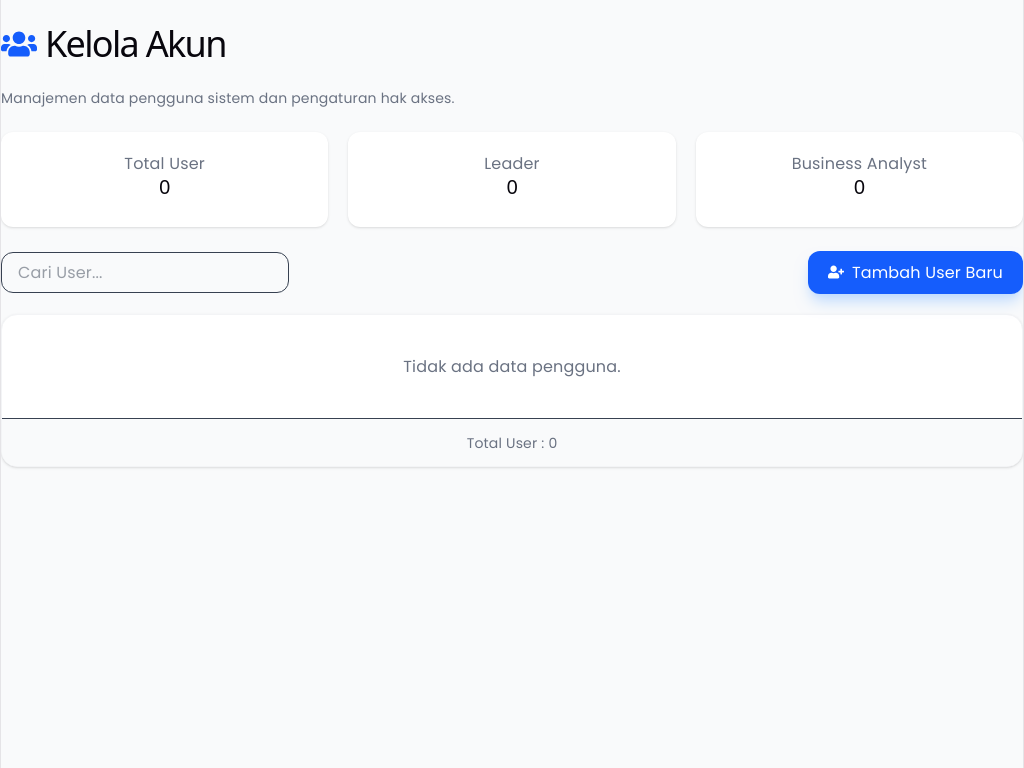
Test: White Box Testing - Kelola Akun › WB-KA06 - Membuka form tambah pengguna
Click the button "Tambah User Baru" at [915, 272], box [808,251,1023,294]
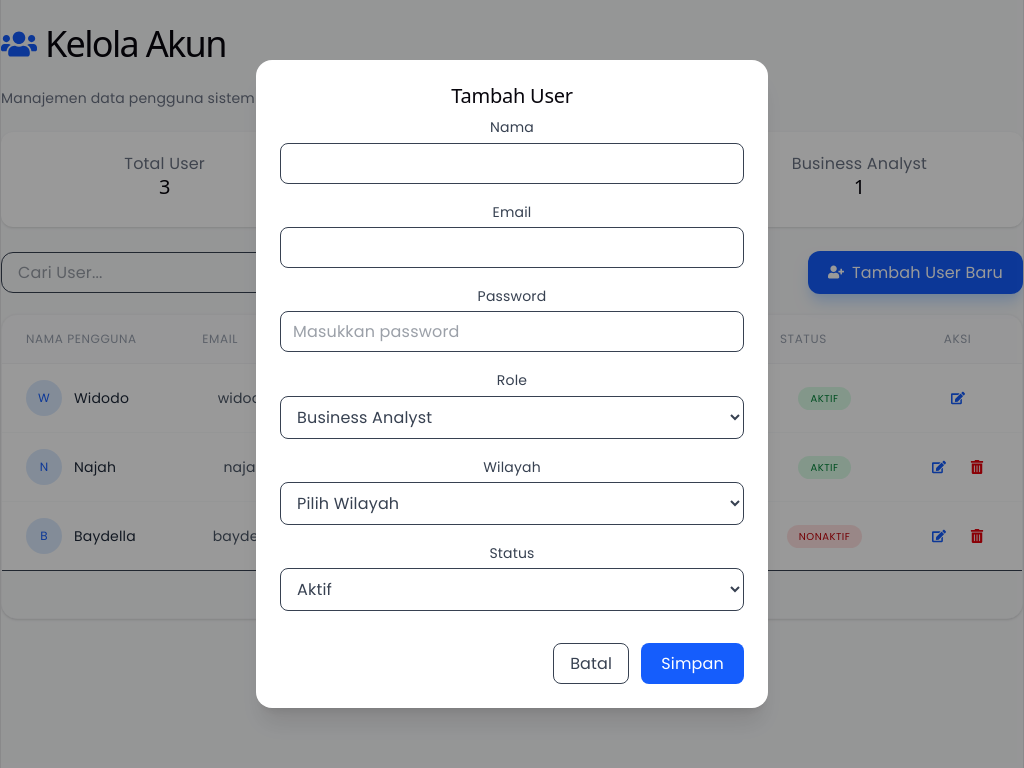
Result: the heading "Tambah User" is shown at [451,82,573,109]
Result: the 1st field named "nama" is shown at [280,142,744,184]
Result: the 2nd field named "email" is shown at [280,227,744,268]
